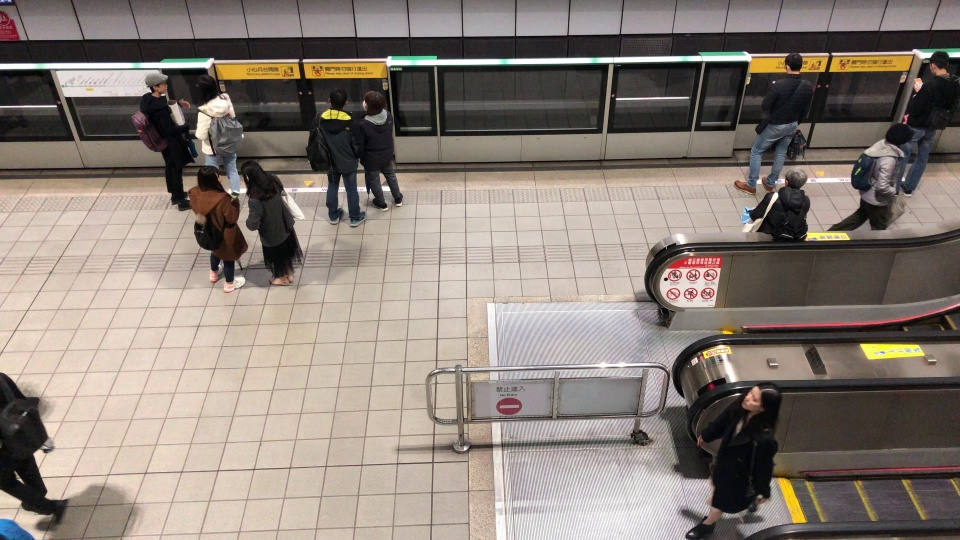person_head: (741, 384, 781, 415), (240, 160, 270, 196), (195, 164, 225, 196), (191, 73, 221, 102), (884, 122, 913, 149), (783, 166, 809, 193), (142, 72, 169, 97), (359, 90, 384, 116), (324, 86, 348, 111), (927, 51, 950, 76), (782, 51, 803, 75)
person_vbox: (683, 384, 783, 540), (732, 50, 816, 193), (0, 361, 69, 526), (824, 121, 915, 236), (890, 51, 960, 200), (126, 71, 198, 211), (234, 158, 306, 290), (302, 86, 369, 226), (181, 164, 252, 294), (185, 73, 247, 197), (355, 90, 405, 213), (741, 166, 813, 241)
